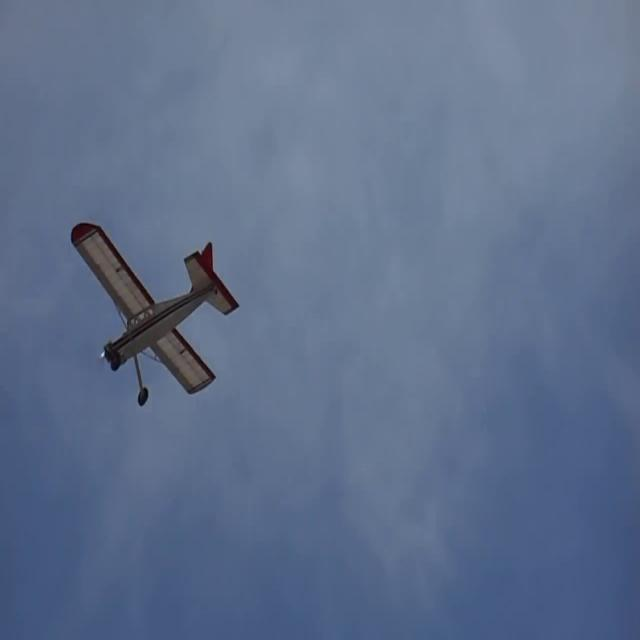iha: (71, 223, 237, 409)
